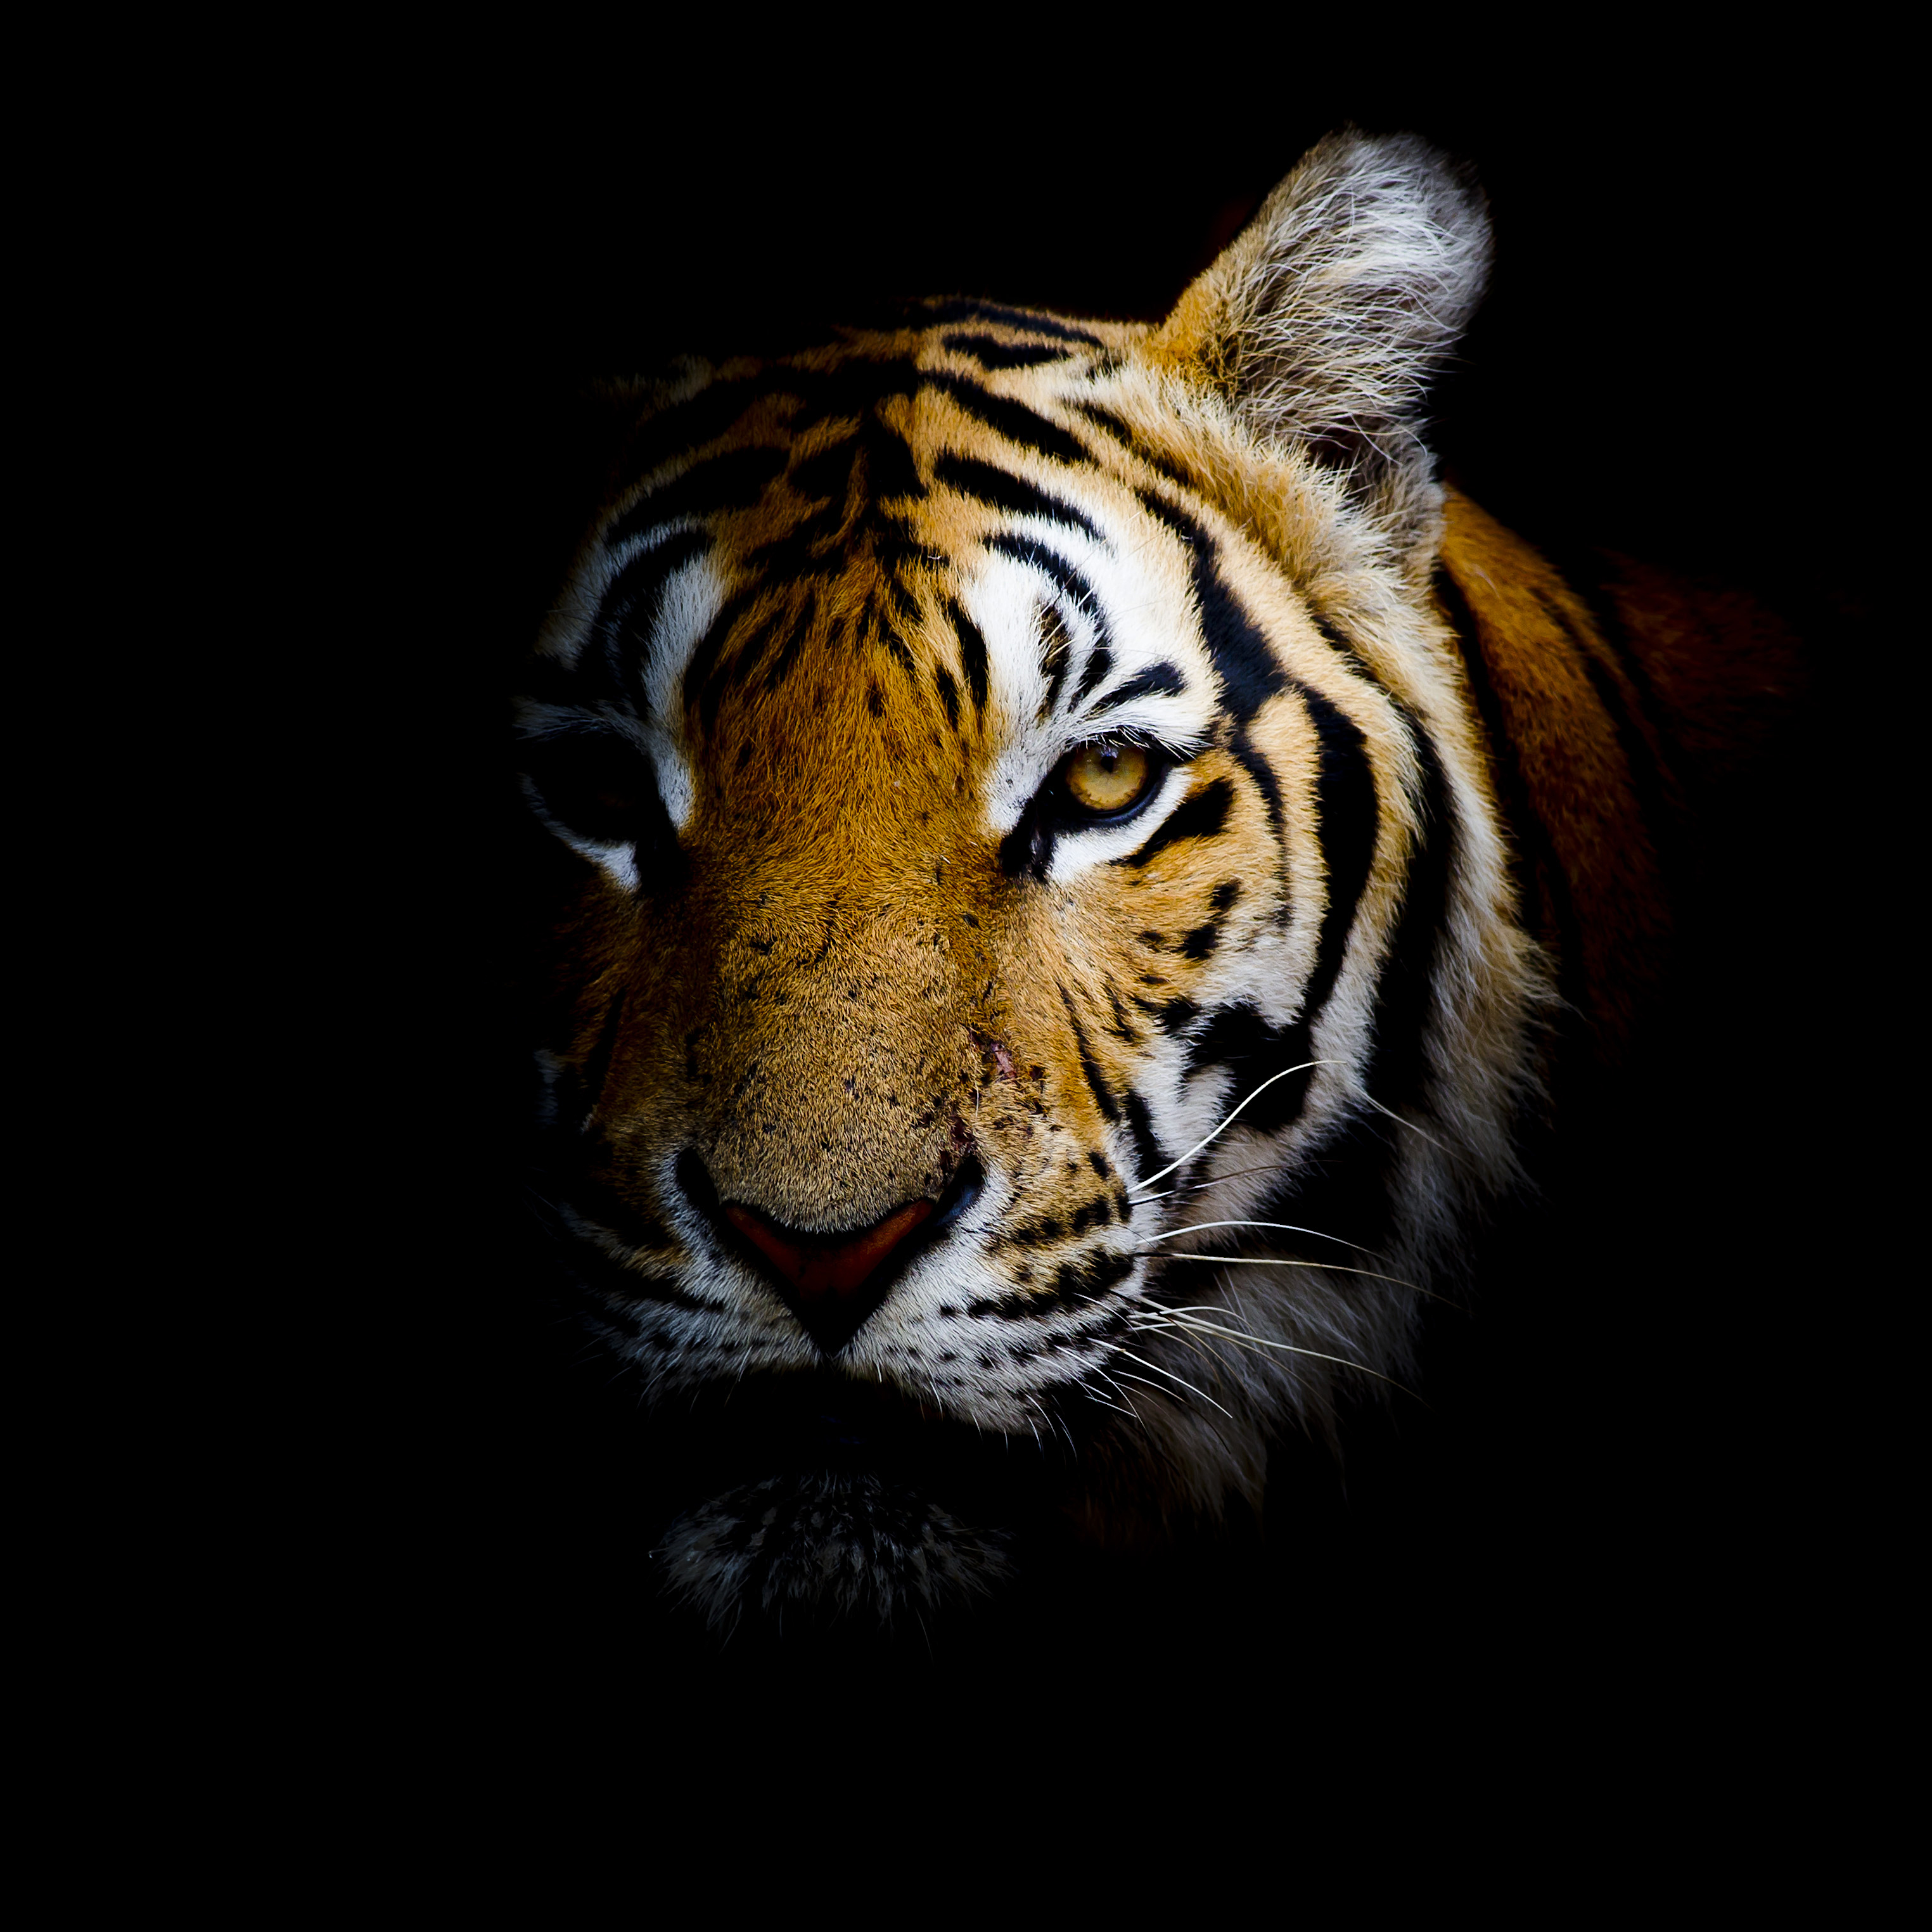tiger: (189, 64, 1698, 1645)
